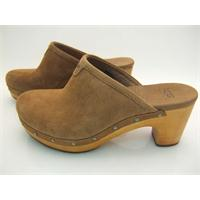shoe: (5, 40, 198, 152)
